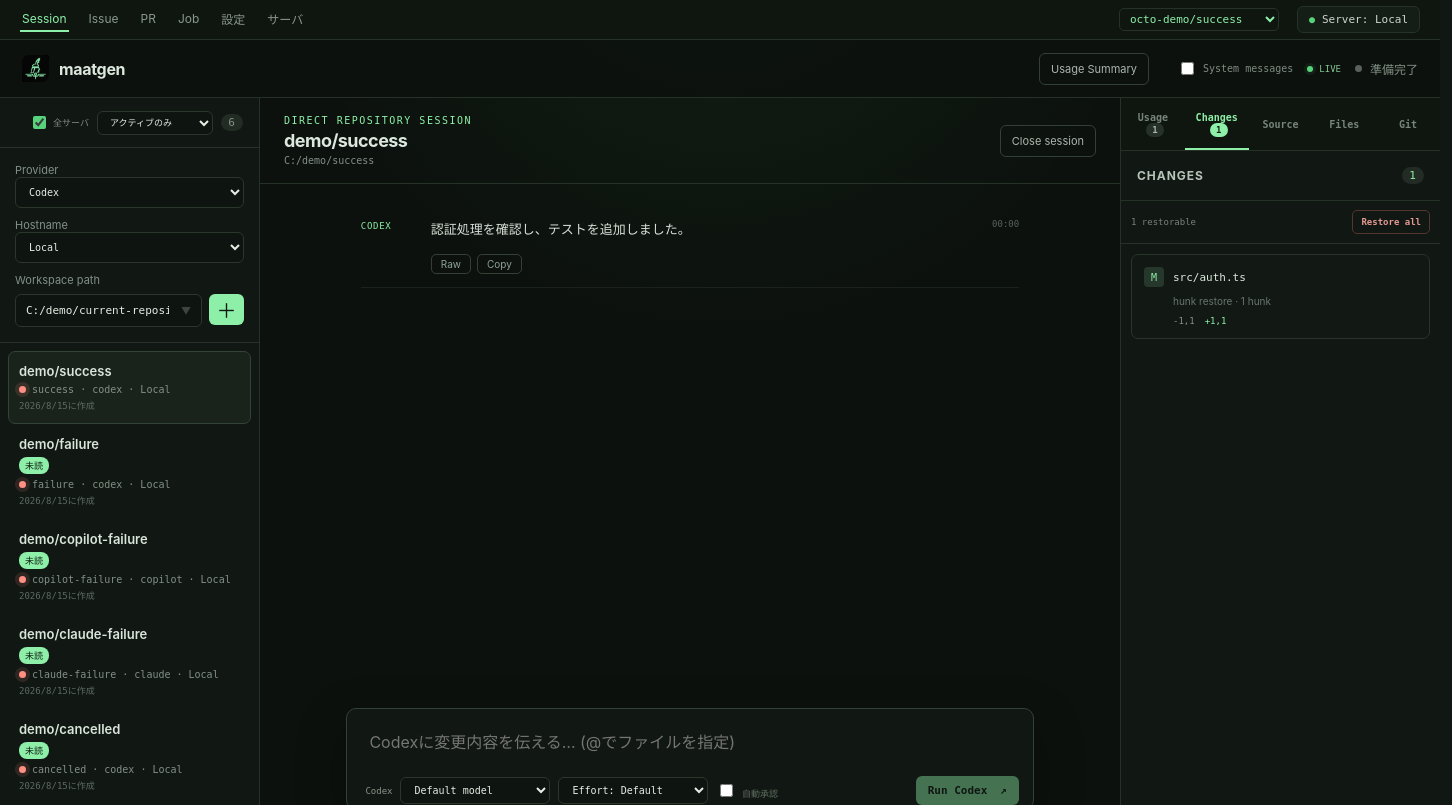
Test: Node relay › lists an already registered node as pending
This screenshot has width=1452, height=805.
Click the button with class "node-selector-toggle" at (1358, 20), box [1297,6,1420,33]
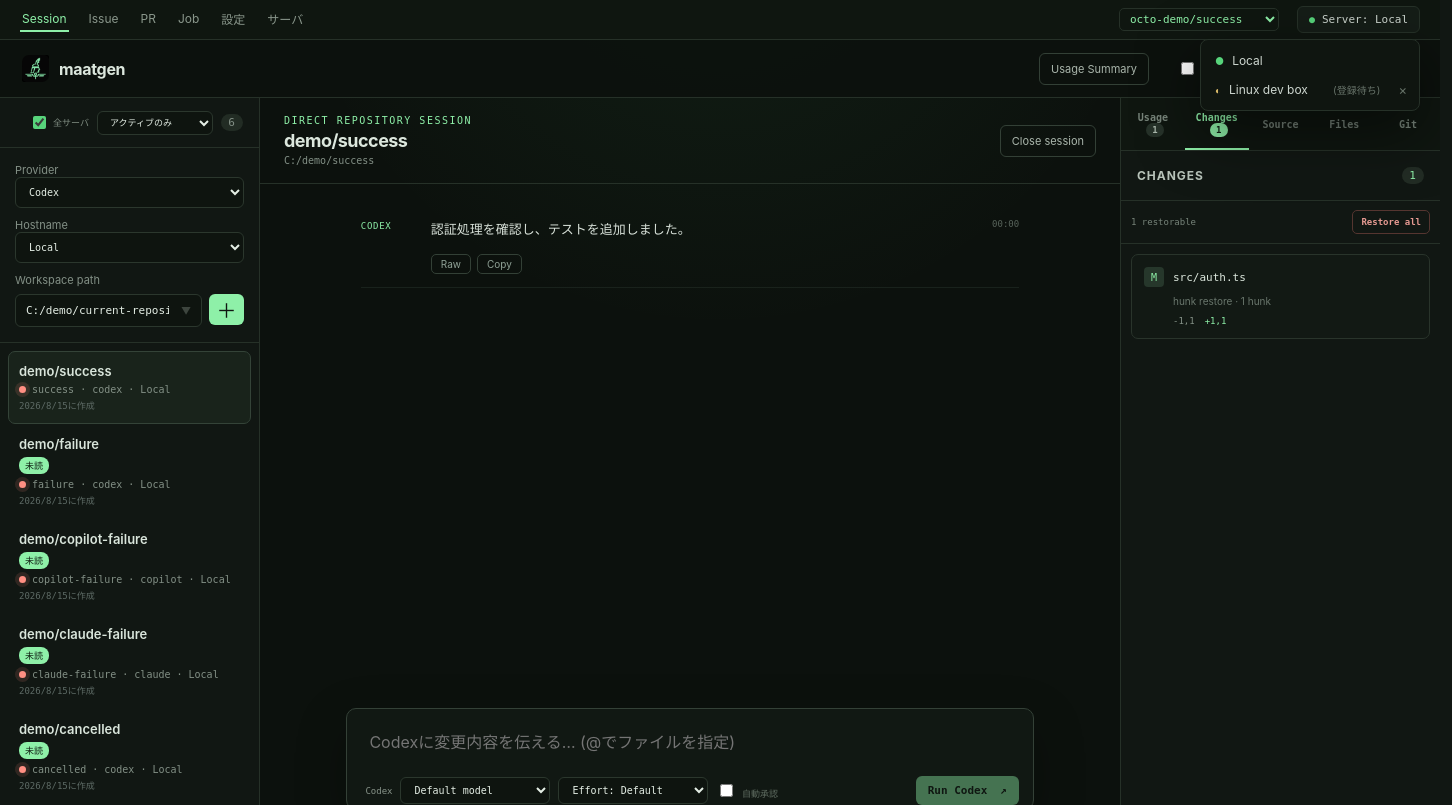
Check: the button with class "node-option" shows "登録待ち", box [1207,75,1388,104]
